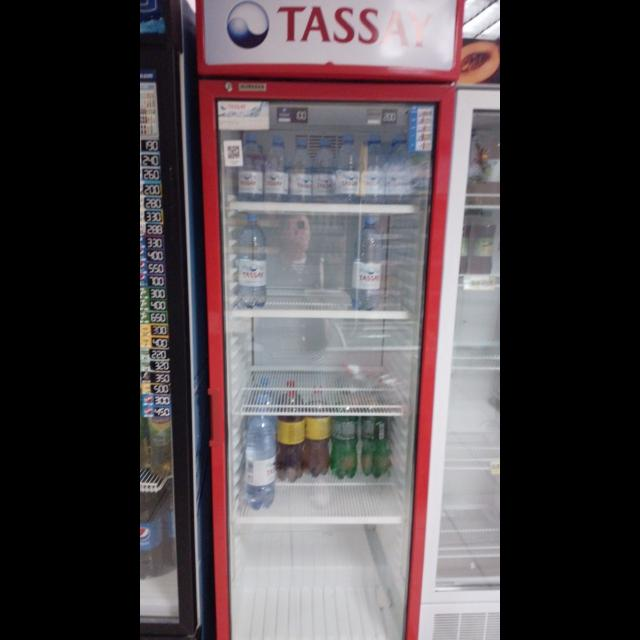Cooling-Display: (193, 1, 462, 640)
